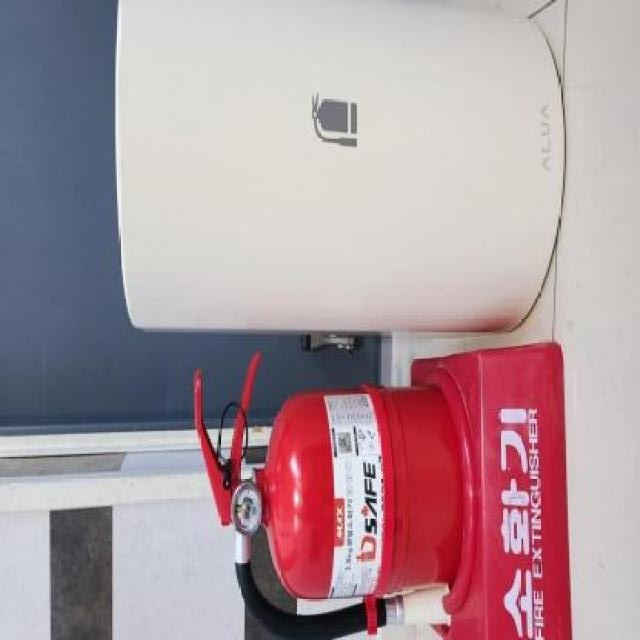fire extinguisher: (193, 351, 464, 640)
